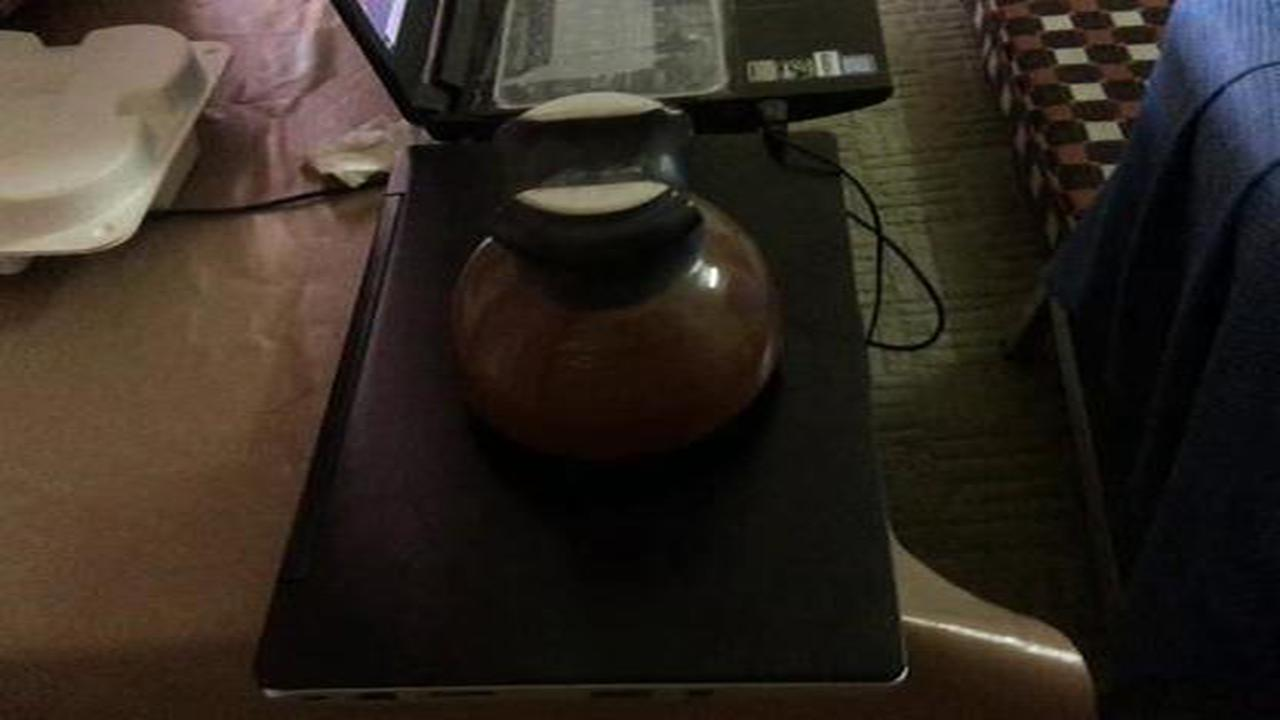insulator_pin: (431, 77, 801, 473)
